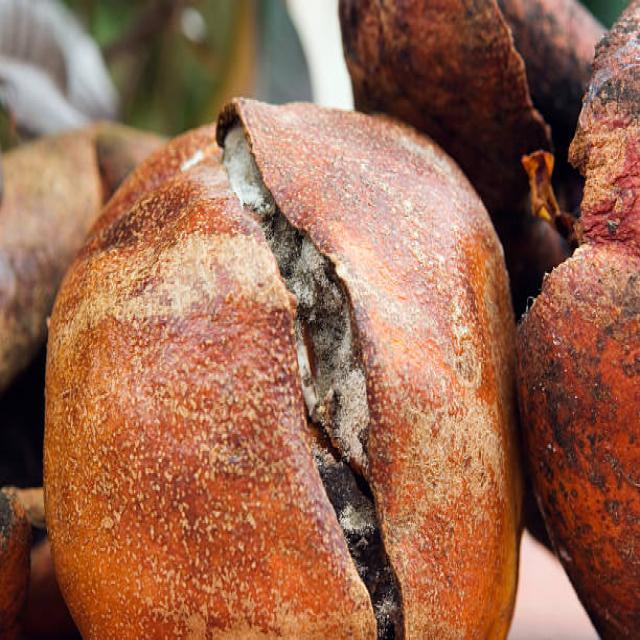Rotten: (44, 95, 519, 640)
